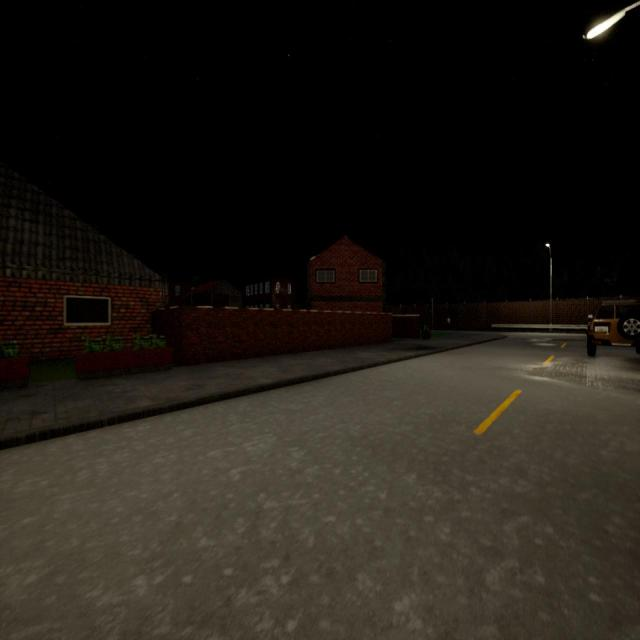Vehicle: (586, 299, 640, 356)
